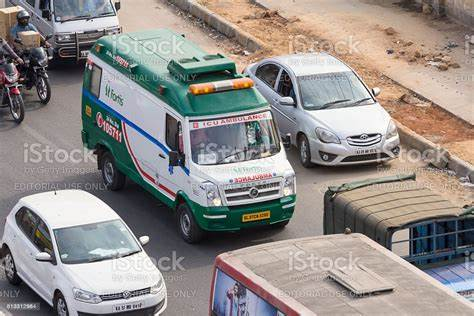ambulance: (82, 31, 295, 232)
